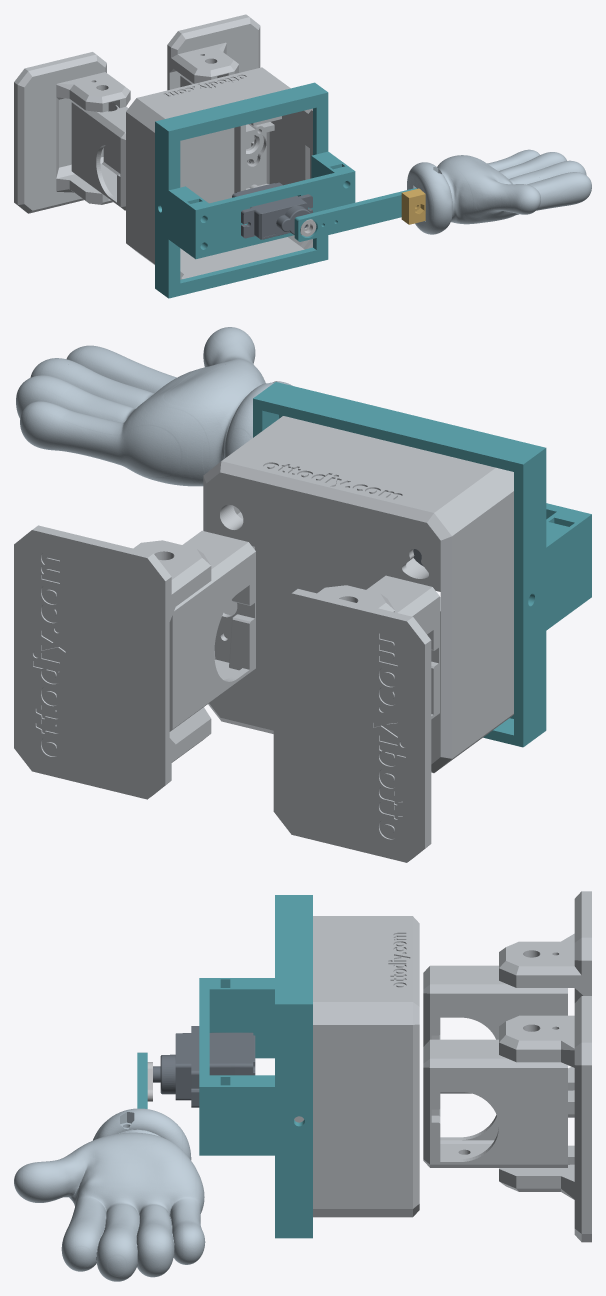
Rendered from 整机总装_v02.glb.
3 renders of one model, top to bottom at view 1: azimuth 30°, elevation 25°; view 2: azimuth 150°, elevation 25°; view 3: azimuth 270°, elevation 25°, orthographic. The views are drawn at different scales.
Visible parts, largest first — view 1: part_0, part_5, part_4, part_9, part_6, part_3, part_2, part_11, part_7, part_10, part_1; view 2: part_0, part_3, part_4, part_9, part_5, part_1, part_2, part_6; view 3: part_0, part_5, part_9, part_1, part_3, part_2, part_4, part_7, part_6, part_11.
Part boxes in pixels (x1,y1,x2,y2): part_0: (126, 67, 312, 279); part_5: (155, 82, 351, 298); part_4: (14, 52, 130, 213); part_9: (407, 149, 591, 234); part_6: (192, 168, 355, 259); part_3: (167, 14, 260, 149); part_2: (71, 101, 128, 210); part_11: (294, 188, 416, 241); part_7: (232, 182, 312, 239); part_10: (401, 188, 425, 224); part_1: (180, 74, 263, 164); part_0: (203, 416, 513, 773); part_3: (14, 525, 211, 799); part_4: (273, 585, 431, 862); part_9: (16, 327, 292, 486); part_5: (253, 382, 585, 747); part_1: (169, 530, 255, 731); part_2: (366, 575, 439, 719); part_6: (546, 503, 591, 601); part_0: (294, 916, 419, 1217); part_5: (209, 895, 312, 1238); part_9: (14, 1108, 205, 1281); part_1: (423, 1039, 567, 1167); part_3: (499, 996, 591, 1242); part_2: (423, 965, 567, 1093); part_4: (499, 891, 591, 1117); part_7: (153, 1026, 255, 1107); part_6: (199, 978, 209, 1155); part_11: (137, 1052, 147, 1108).
Size of the model in its own units: 188 by 75 by 168.
